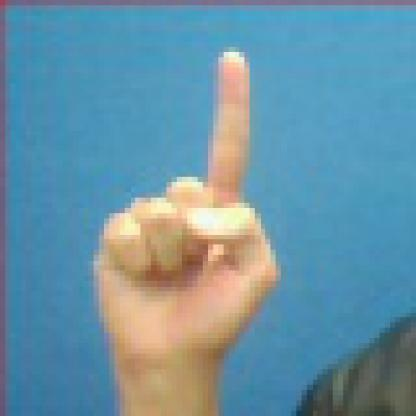one: (82, 44, 287, 376)
